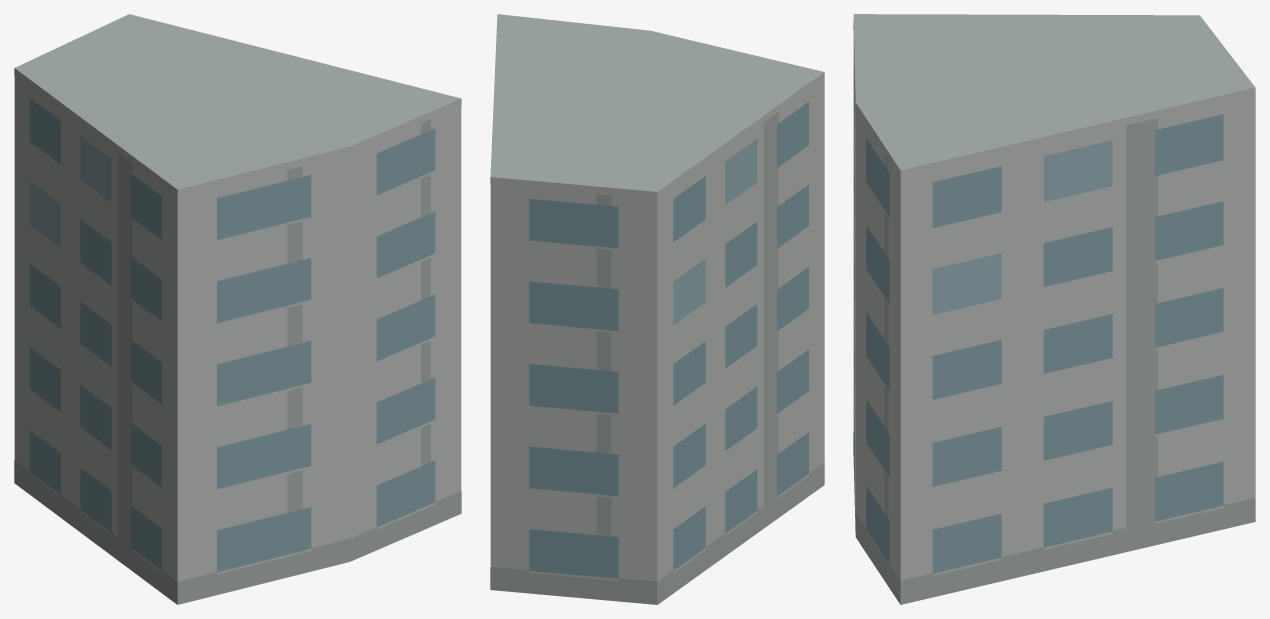
Rendered from survey-upis-32573780.glb.
3 views of the same model, side by side, from view 1: azimuth 30°, elevation 25°; view 2: azimuth 150°, elevation 25°; view 3: azimuth 270°, elevation 25° (orthographic). The views are drawn at different scales.
Visible parts, largest first — view 1: survey-upis-32573780.tmp; view 2: survey-upis-32573780.tmp; view 3: survey-upis-32573780.tmp.
Boxes of the visible parts, left/top/right/bottom form: survey-upis-32573780.tmp: left=14, top=14, right=461, bottom=604; survey-upis-32573780.tmp: left=490, top=14, right=824, bottom=604; survey-upis-32573780.tmp: left=853, top=14, right=1255, bottom=604.
Bounding box in the file's own units: 10.51 × 13.6 × 11.42.
